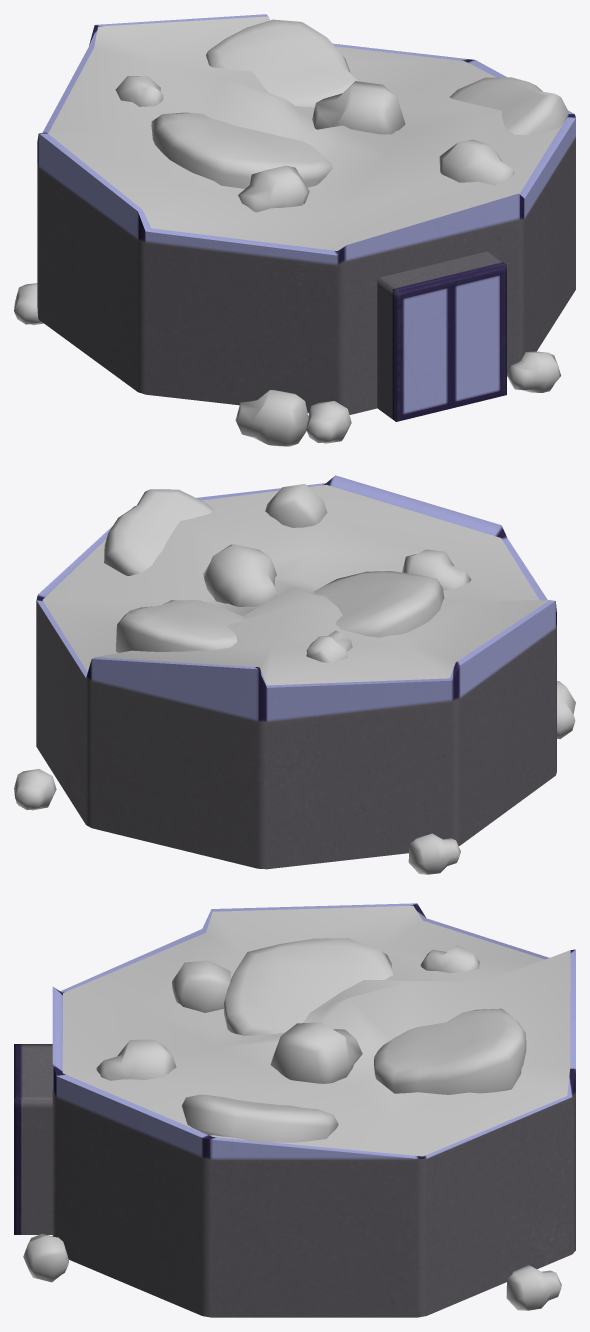
Rendered from House_Octa_Ruins.fbx.
3 views of the same model, one above another, from view 1: azimuth 30°, elevation 25°; view 2: azimuth 150°, elevation 25°; view 3: azimuth 270°, elevation 25° (orthographic). The views are drawn at different scales.
Parts seen in each view (by area): view 1: House_Octa_Ruins; view 2: House_Octa_Ruins; view 3: House_Octa_Ruins.
Part boxes in pixels (x1,y1,x2,y2): House_Octa_Ruins: (14,14,575,446); House_Octa_Ruins: (14,475,575,874); House_Octa_Ruins: (14,903,575,1317).
Bounding box in the file's own units: 297 × 145 × 311.
